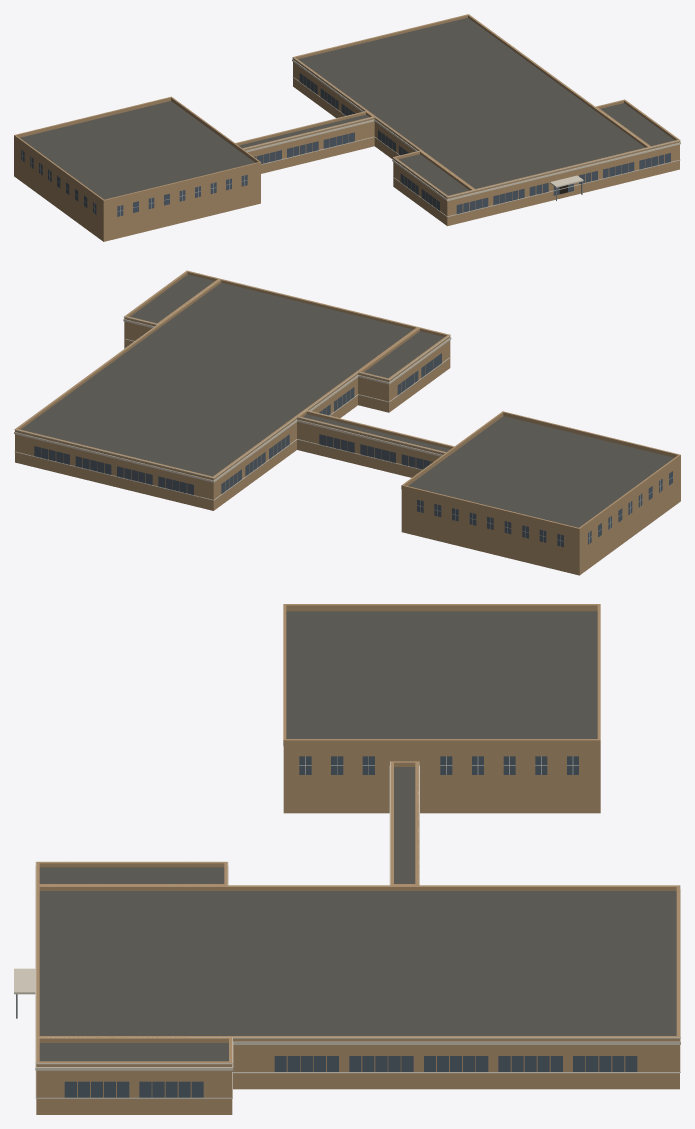
File: oakbrooke-elementary.glb
3 renders of one model, top to bottom at view 1: azimuth 30°, elevation 25°; view 2: azimuth 150°, elevation 25°; view 3: azimuth 270°, elevation 25°, orthographic. The views are drawn at different scales.
Visible parts, largest first — view 1: oakbrooke_elementary; view 2: oakbrooke_elementary; view 3: oakbrooke_elementary.
Boxes of the visible parts, bbox=[...] form: oakbrooke_elementary: bbox=[14, 14, 680, 241]; oakbrooke_elementary: bbox=[14, 270, 680, 575]; oakbrooke_elementary: bbox=[14, 604, 680, 1114].
Bounding box in the file's own units: 111 × 8.65 × 71.52.
